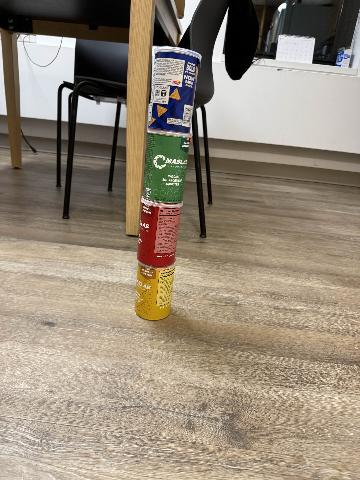Golden Can: (135, 262, 174, 320)
Green Can: (144, 129, 191, 203)
Red Can: (138, 197, 182, 266)
